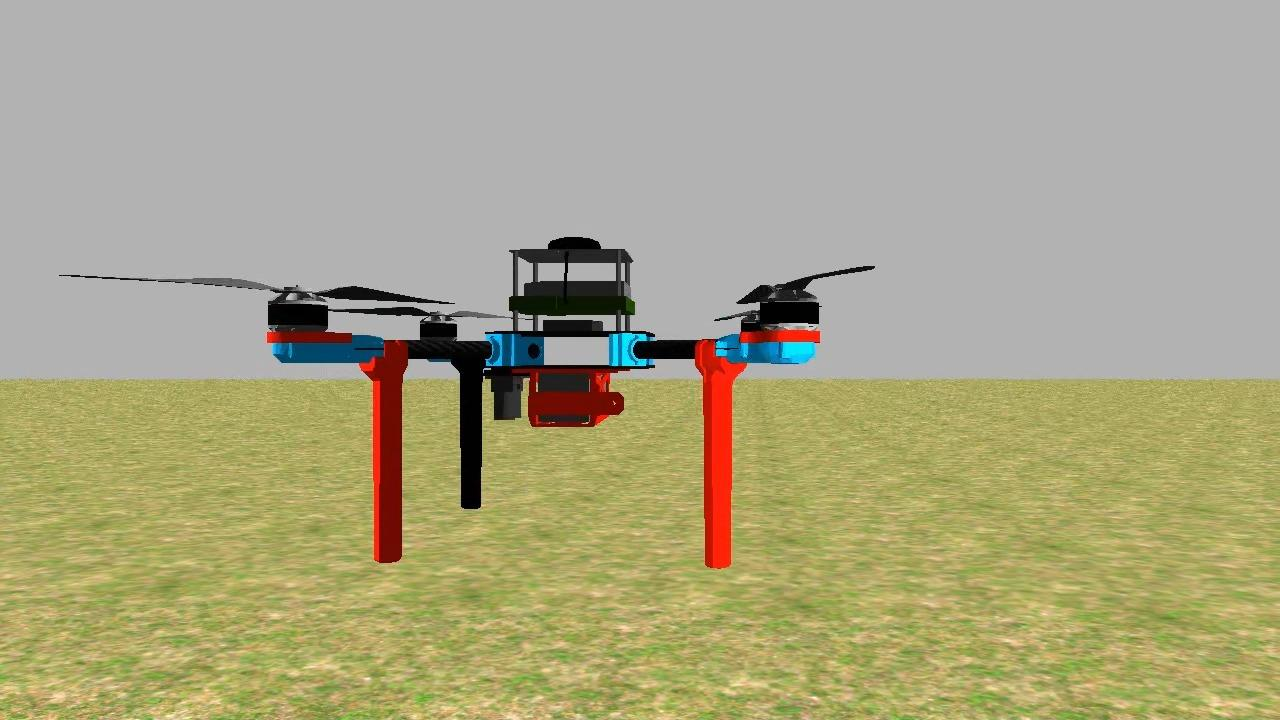UAV: (256, 229, 835, 587)
